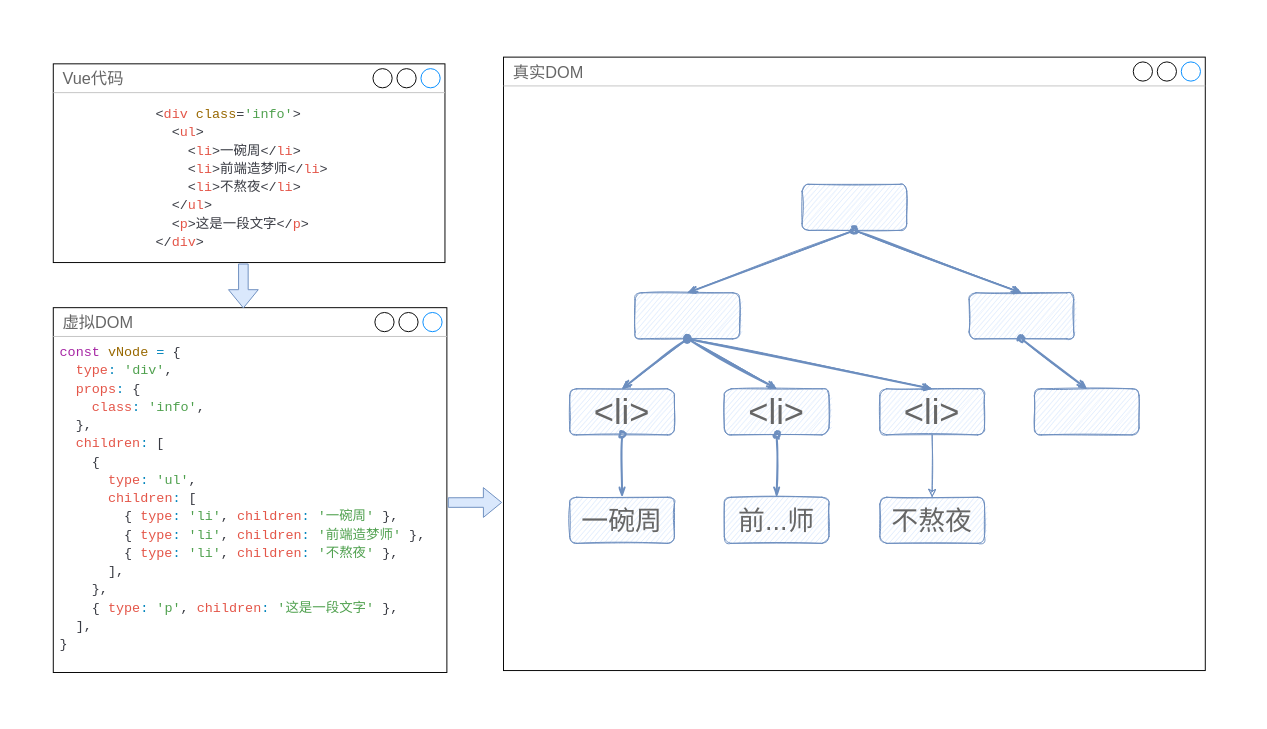
The diagram is 1267 pixels wide and 729 high, and some of its shapes have lost their labels. Here are the shapes that lost their labels. From the top down, the centre of each, then its label:
At point (854, 206): "<div>".
At point (687, 315): "<ul>".
At point (1021, 315): "<p>".
At point (1086, 411): "这...字".
